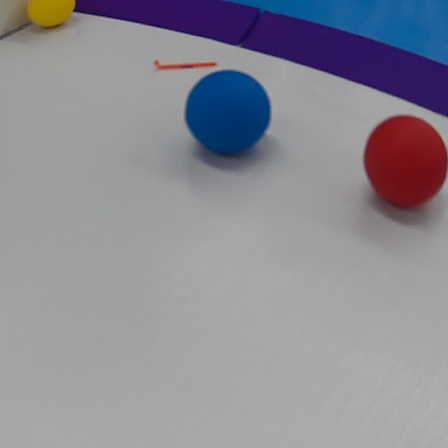blue: (182, 67, 276, 162)
blue_aim: (55, 0, 447, 124)
red: (362, 113, 447, 215)
yellow: (15, 0, 88, 37)
